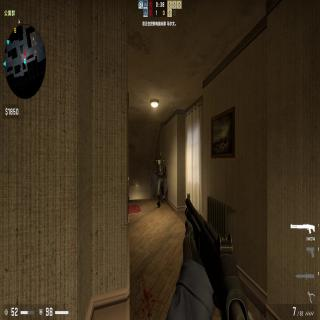T-Head: (157, 158, 161, 166)
